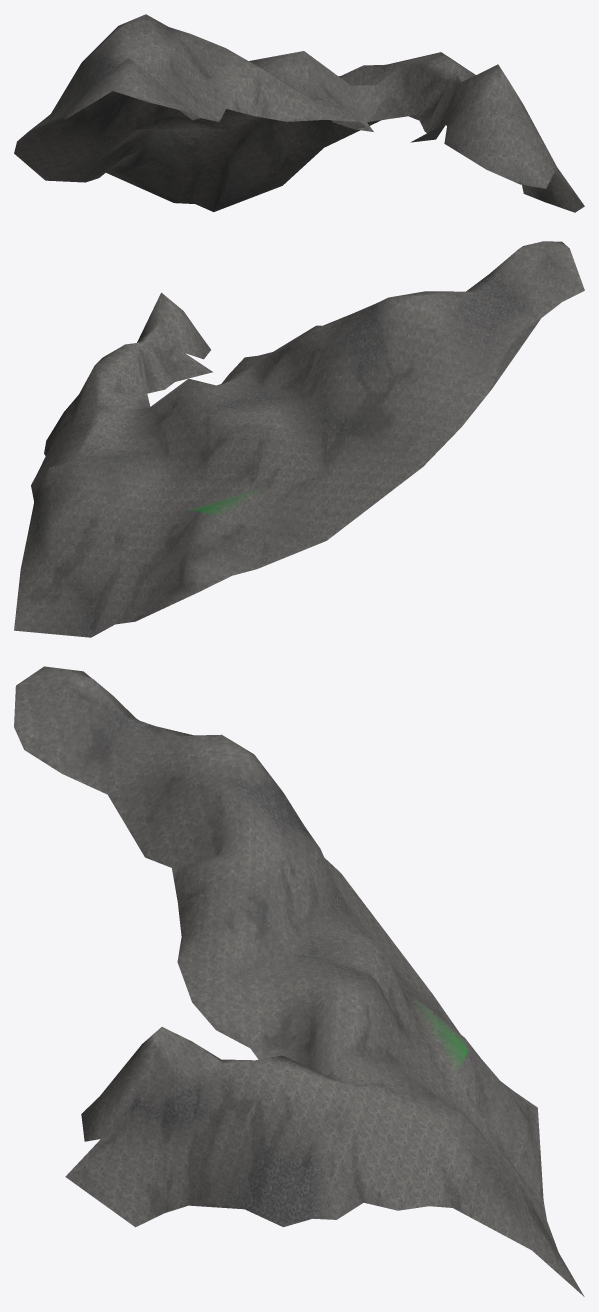
The model's file is clod_terrain_06_08_clod002.gltf.
3 renders of one model, top to bottom at view 1: azimuth 30°, elevation 25°; view 2: azimuth 150°, elevation 25°; view 3: azimuth 270°, elevation 25°, orthographic. The views are drawn at different scales.
Visible parts, largest first — view 1: um_clod_terrain_06_08_clod002_0_Shape1:aggregation_mat; view 2: um_clod_terrain_06_08_clod002_0_Shape1:aggregation_mat; view 3: um_clod_terrain_06_08_clod002_0_Shape1:aggregation_mat.
Boxes of the visible parts, x1,y1,x2,y2 form: um_clod_terrain_06_08_clod002_0_Shape1:aggregation_mat: (14,14,584,212); um_clod_terrain_06_08_clod002_0_Shape1:aggregation_mat: (14,241,584,637); um_clod_terrain_06_08_clod002_0_Shape1:aggregation_mat: (14,666,584,1296).
Bounding box in the file's own units: 247 × 168 × 207.
1 material, 1 textured.
